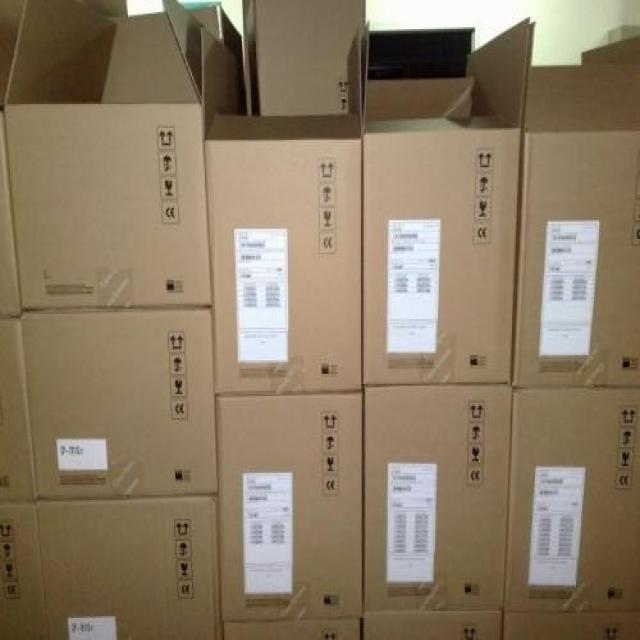box: (3, 1, 221, 308), (201, 4, 368, 397), (362, 21, 529, 386), (513, 38, 639, 388), (21, 309, 217, 499), (362, 386, 511, 615), (216, 392, 361, 621), (506, 390, 639, 611), (38, 498, 220, 638), (0, 317, 37, 500), (362, 611, 501, 638), (502, 613, 639, 638), (221, 618, 361, 638)
